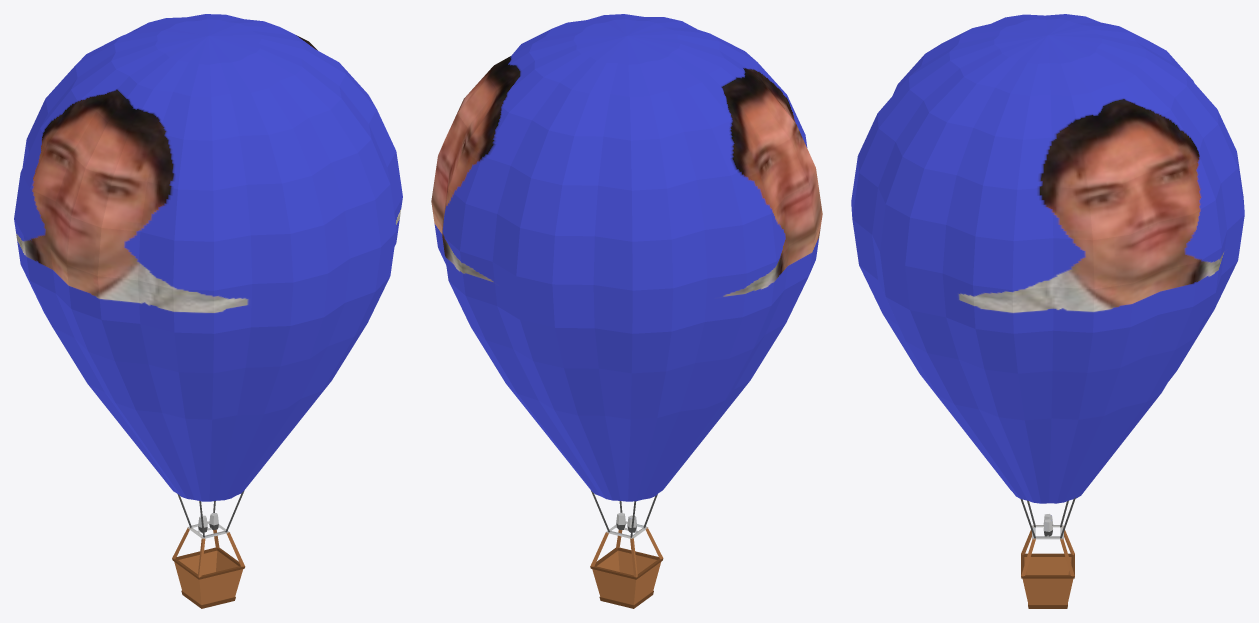
3 views of the same model, side by side, from view 1: azimuth 30°, elevation 25°; view 2: azimuth 150°, elevation 25°; view 3: azimuth 270°, elevation 25° (orthographic).
Parts seen in each view (by area): view 1: Hot Air Balloon; view 2: Hot Air Balloon; view 3: Hot Air Balloon.
Part boxes in pixels (x1,y1,x2,y2): Hot Air Balloon: (14,14,402,608); Hot Air Balloon: (431,14,822,608); Hot Air Balloon: (851,14,1244,608).
Size of the model in its own units: 11.56 by 18.57 by 11.72.
Materials: 1 (1 with a texture image).
